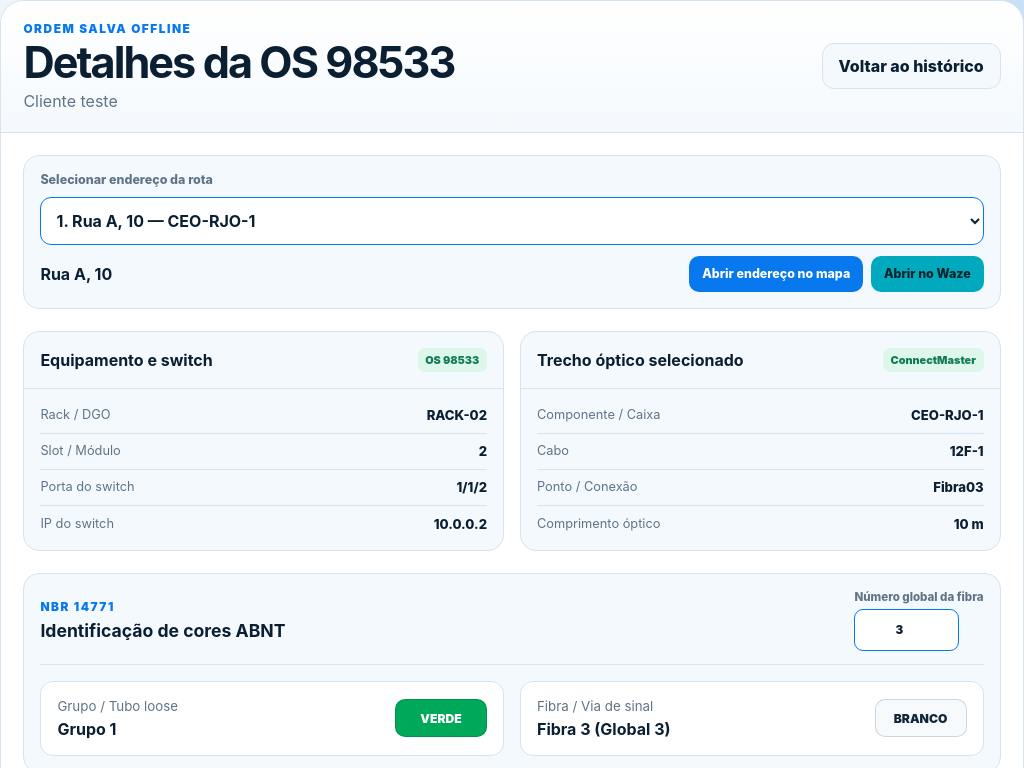
it: order route details › changes the technical panel, navigation and ABNT fiber with the selected location
Select "2. Rua B, 20 — CEO-RJO-2" in the dropdown labelled "Selecionar endereço da rota" at {"x": 512, "y": 222}, box [40,198,984,246]
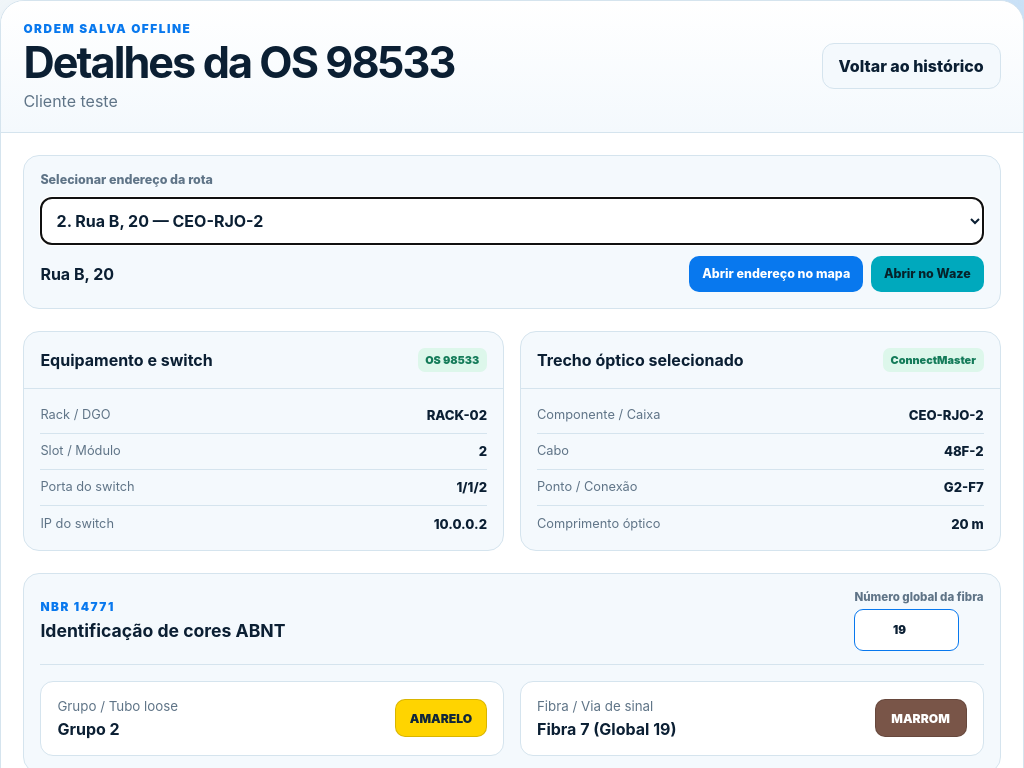
Expected: the text "CEO-RJO-2" is shown, [909,407,984,423]
Expected: the text "48F-2" is shown, [944,443,984,459]
Expected: the number field labelled "Número global da fibra" holds "19", [854,609,960,651]
